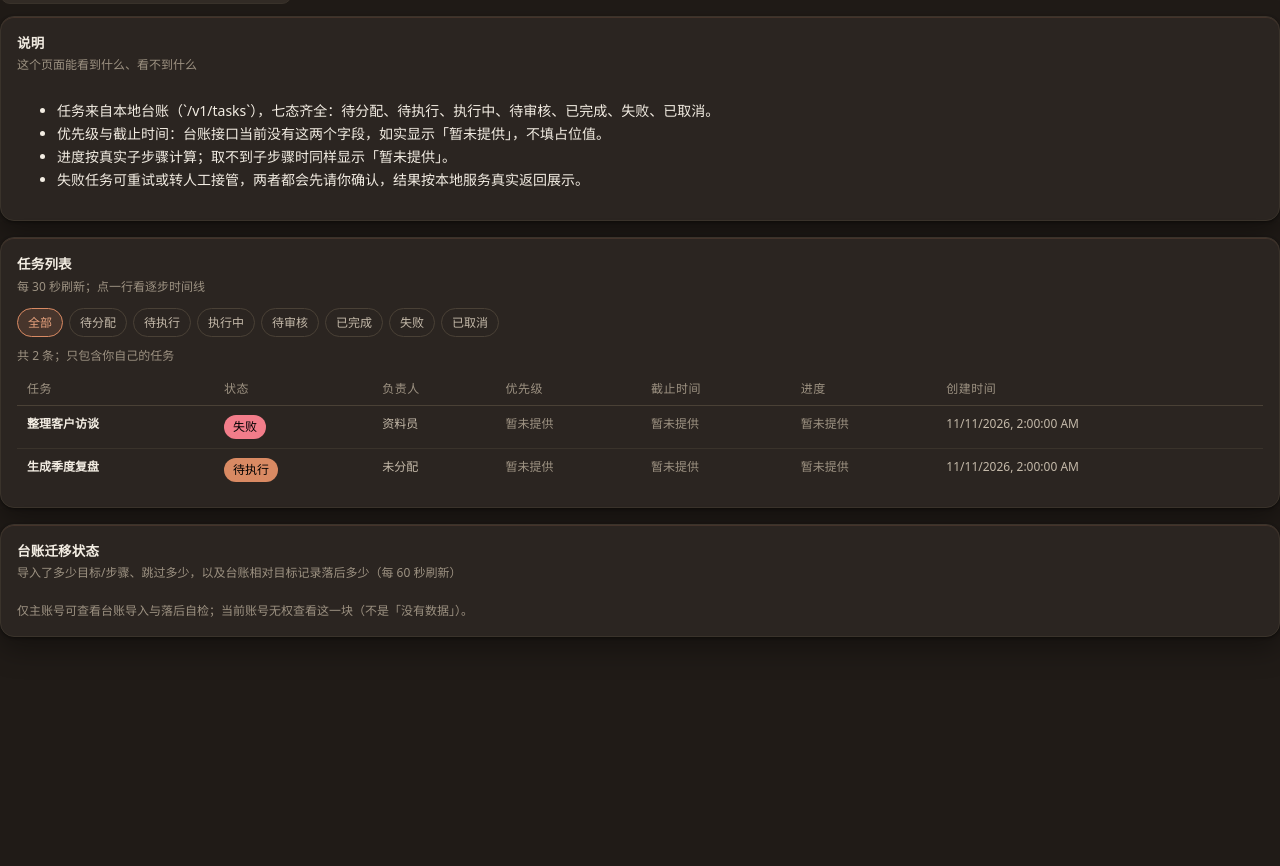
Scenario: 任务详情 › 逐步时间线含序号/负责人/能力/耗时/起止；失败步骤整卡标红并单列原因
Click the button "整理客户访谈".
click(63, 424)  # box 27,415 -> 99,433
(page scrolled)
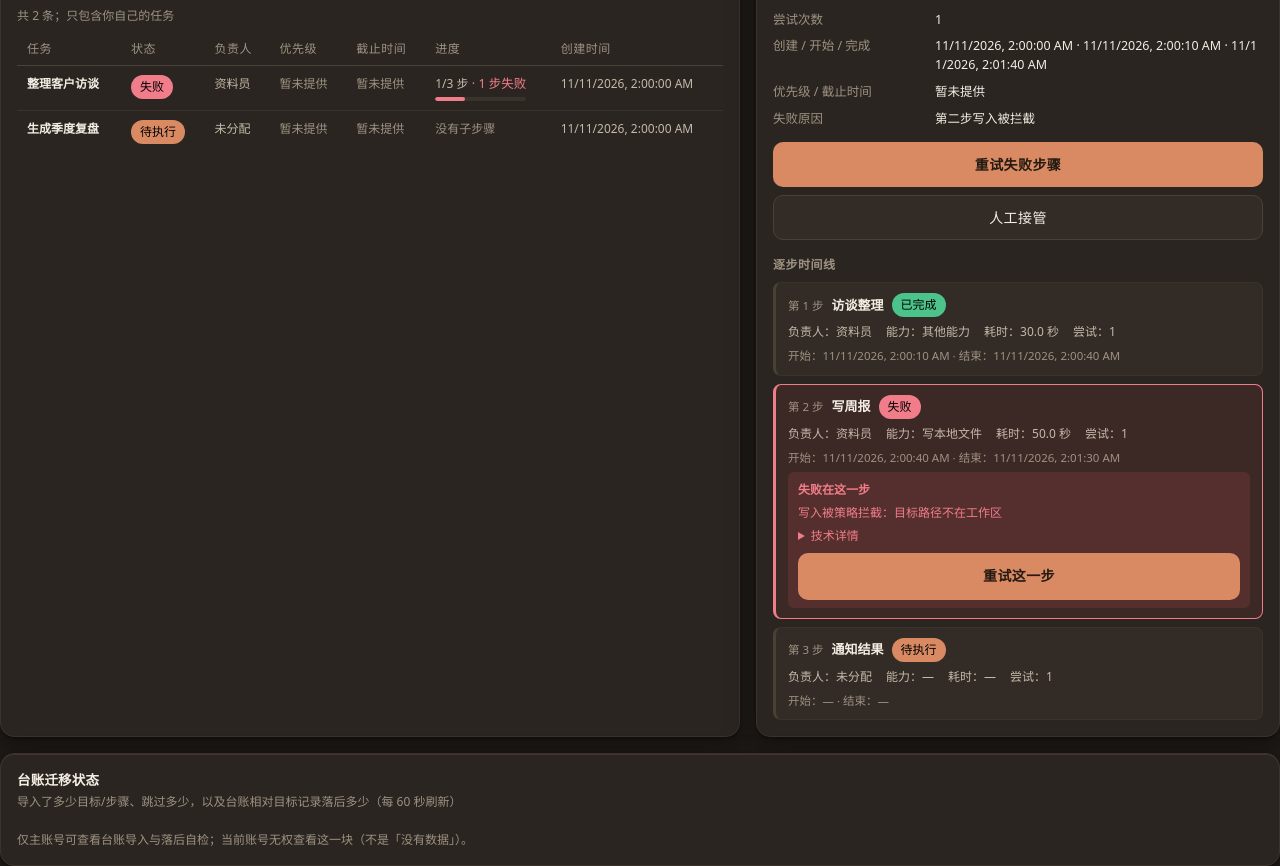
Now the heading "逐步时间线" is shown, box 773,256 -> 835,273
Now the text "第 1 步" is shown, box 788,297 -> 824,314
Now the text "第 2 步" is shown, box 788,398 -> 824,415
